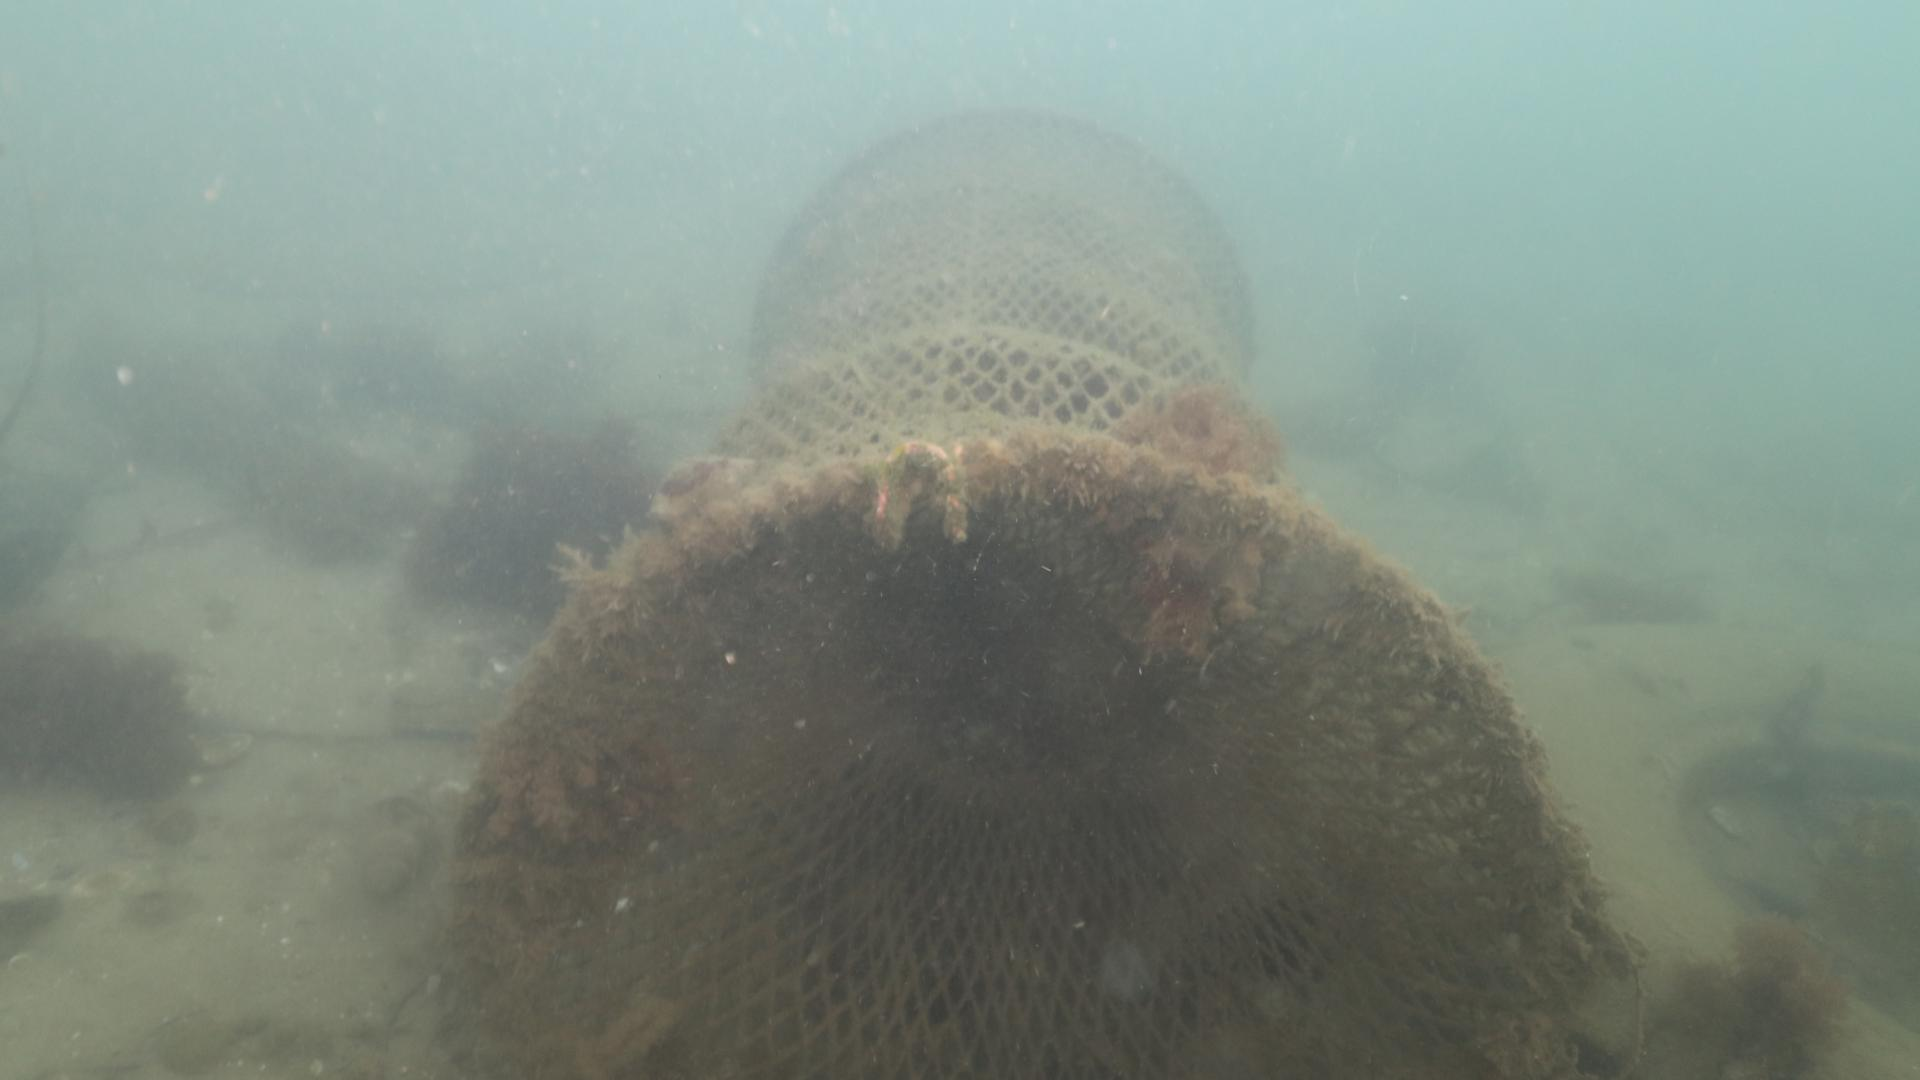spring fish trap: (434, 104, 1619, 1080)
